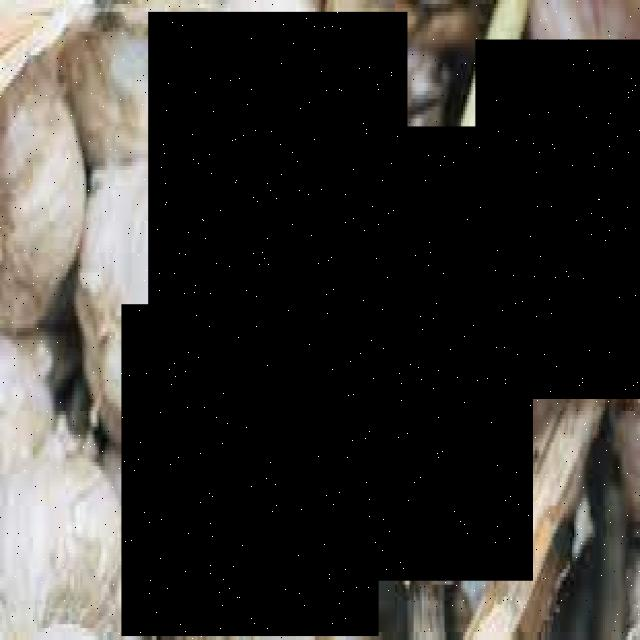Garlic: (306, 127, 534, 581), (150, 14, 409, 367), (122, 304, 378, 640), (475, 40, 640, 399)
